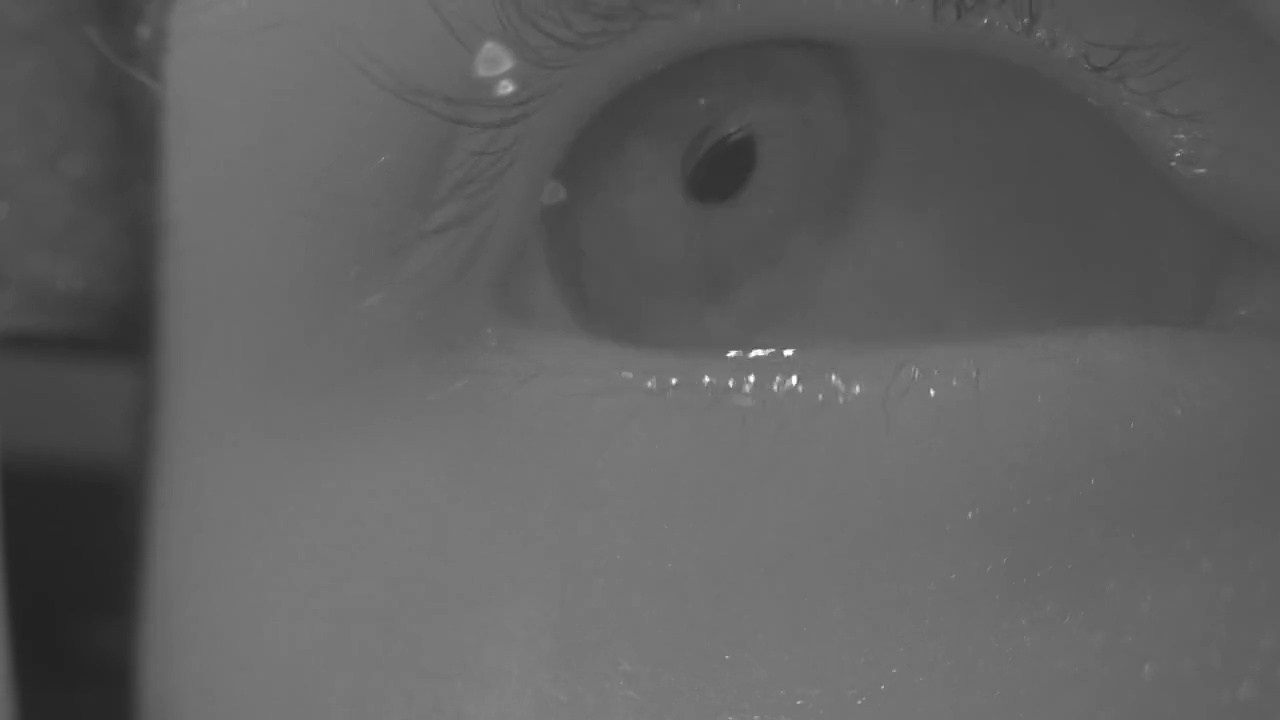pupil: (677, 122, 755, 205)
